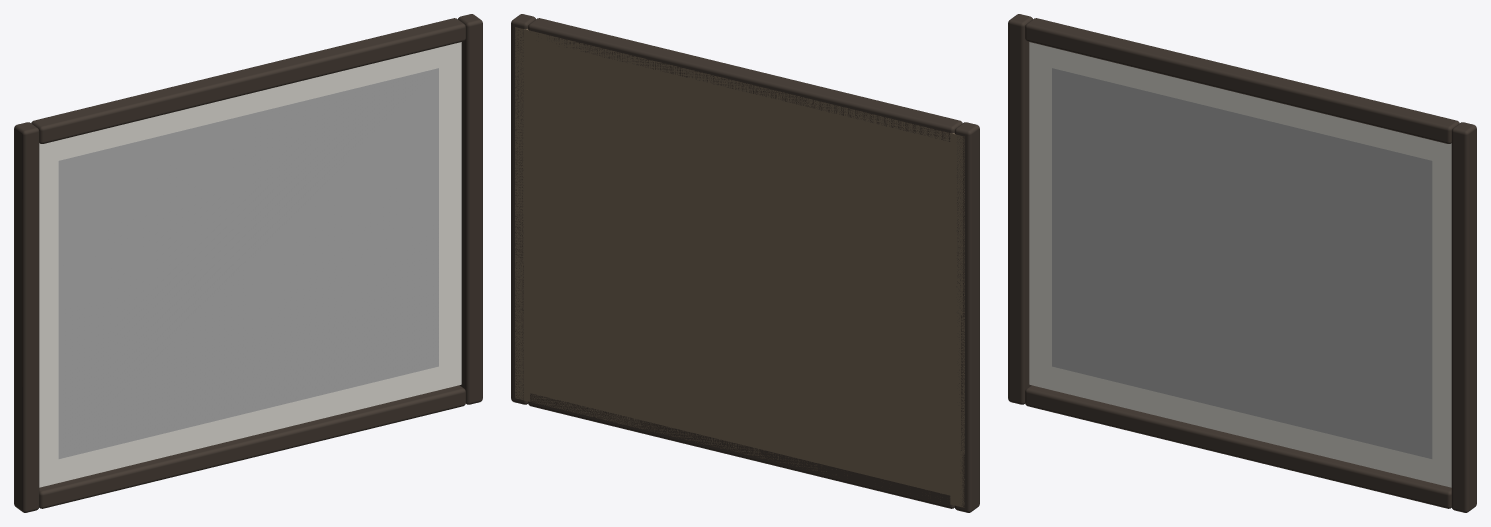
Rendered from frame_wall.glb.
3 views of the same model, side by side, from view 1: azimuth 30°, elevation 25°; view 2: azimuth 150°, elevation 25°; view 3: azimuth 330°, elevation 25° (orthographic).
Visible parts, largest first — view 1: Photo, MountBoard, Rail1, Side-1, Rail-1, Side1; view 2: Backing, Rail1, Side-1, Rail-1, Side1; view 3: Photo, MountBoard, Rail1, Side1, Rail-1, Side-1.
Part boxes in pixels (box(x1,y1,x2,y2)): Photo: box(58, 68, 438, 458); MountBoard: box(39, 42, 461, 487); Rail1: box(31, 18, 465, 143); Side-1: box(14, 122, 39, 512); Rail-1: box(39, 385, 465, 508); Side1: box(458, 14, 482, 404); Backing: box(515, 27, 964, 507); Rail1: box(528, 18, 962, 141); Side-1: box(954, 122, 979, 512); Rail-1: box(528, 393, 954, 508); Side1: box(511, 14, 535, 404); Photo: box(1052, 68, 1432, 458); MountBoard: box(1029, 42, 1451, 487); Rail1: box(1025, 18, 1459, 143); Side1: box(1451, 122, 1476, 512); Rail-1: box(1025, 385, 1451, 508); Side-1: box(1008, 14, 1032, 404).
Bounding box in the file's own units: 0.436 × 0.346 × 0.018.
